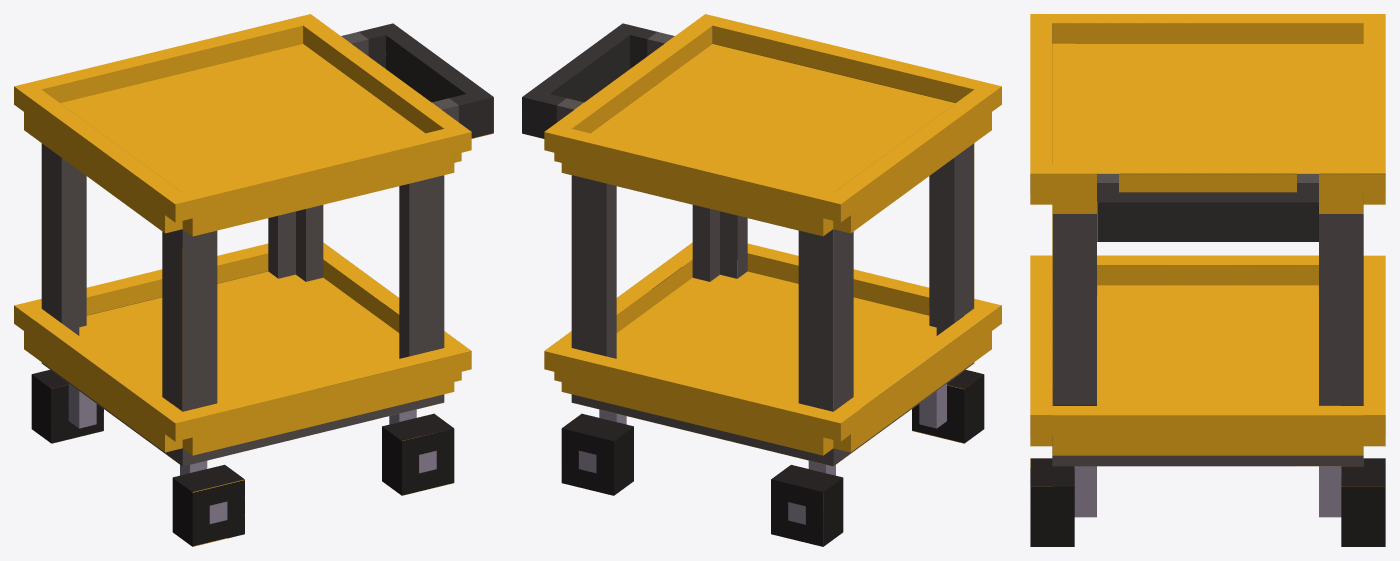
File: IKEA_CarritoH.fbx
3 renders of one model, left to right at view 1: azimuth 30°, elevation 25°; view 2: azimuth 150°, elevation 25°; view 3: azimuth 270°, elevation 25°, orthographic. The views are drawn at different scales.
Visible parts, largest first — view 1: IKEA_CarritoH; view 2: IKEA_CarritoH; view 3: IKEA_CarritoH.
Boxes of the visible parts, x1=… form: IKEA_CarritoH: x1=14, y1=14, x2=493, y2=546; IKEA_CarritoH: x1=522, y1=14, x2=1001, y2=546; IKEA_CarritoH: x1=1030, y1=14, x2=1385, y2=546.
Bounding box in the file's own units: 200 × 190 × 160.
